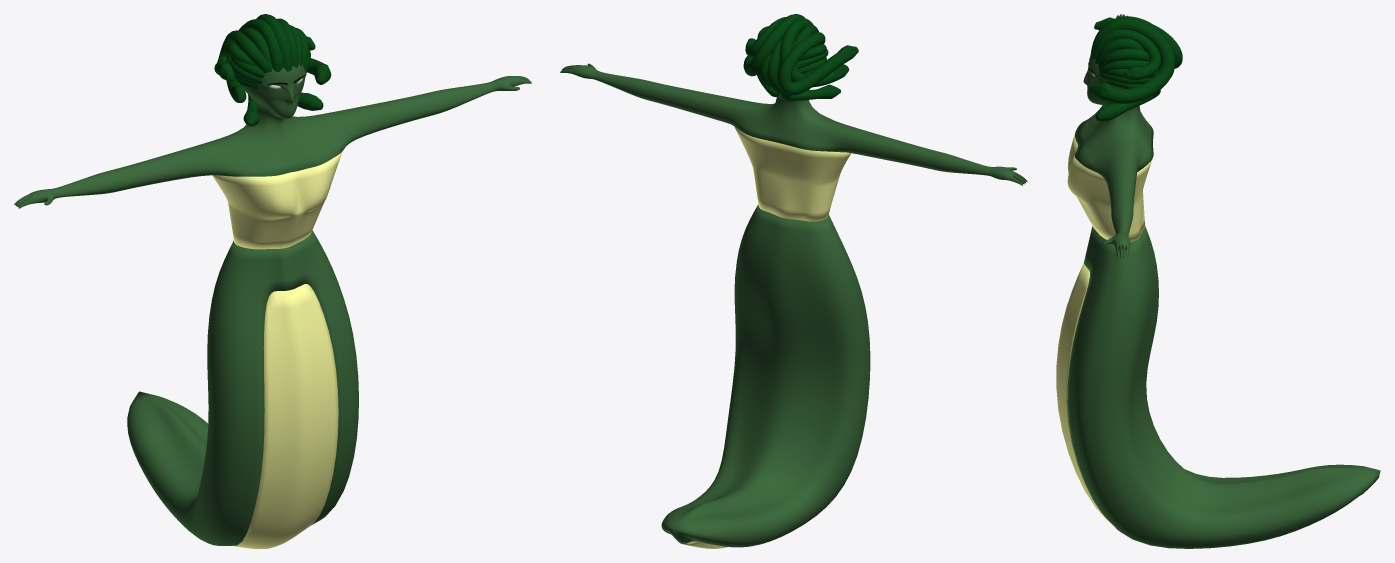
Rendered from Meduza .fbx.
3 views of the same model, side by side, from view 1: azimuth 30°, elevation 25°; view 2: azimuth 150°, elevation 25°; view 3: azimuth 270°, elevation 25° (orthographic). The views are drawn at different scales.
Visible parts, largest first — view 1: Cube, Cube.002, Cube.003, NurbsPath.004, NurbsPath.002, NurbsPath, NurbsPath.010; view 2: Cube, Cube.003, NurbsPath.004, NurbsPath.002, NurbsPath, NurbsPath.010; view 3: Cube, Cube.003, Cube.002, NurbsPath, NurbsPath.001, NurbsPath.010, NurbsPath.012, NurbsPath.011, NurbsPath.004.
Part boxes in pixels (x1,y1,x2,y2): Cube: (14,62,531,545); Cube.002: (232,284,338,548); Cube.003: (212,151,342,249); NurbsPath.004: (214,30,272,82); NurbsPath.002: (226,19,282,102); NurbsPath: (256,14,331,84); NurbsPath.010: (236,73,323,126); Cube: (560,45,1027,547); Cube.003: (734,126,850,221); NurbsPath.004: (778,32,858,95); NurbsPath.002: (779,18,848,87); NurbsPath: (743,14,805,76); NurbsPath.010: (757,75,840,100); Cube: (1067,14,1380,548); Cube.003: (1067,134,1152,242); Cube.002: (1056,262,1110,522); NurbsPath: (1089,18,1174,103); NurbsPath.001: (1092,29,1160,80); NurbsPath.010: (1095,80,1160,121); NurbsPath.012: (1098,48,1149,68); NurbsPath.011: (1095,38,1144,63); NurbsPath.004: (1094,17,1182,68).
Size of the model in its own units: 1555 by 1559 by 884.
